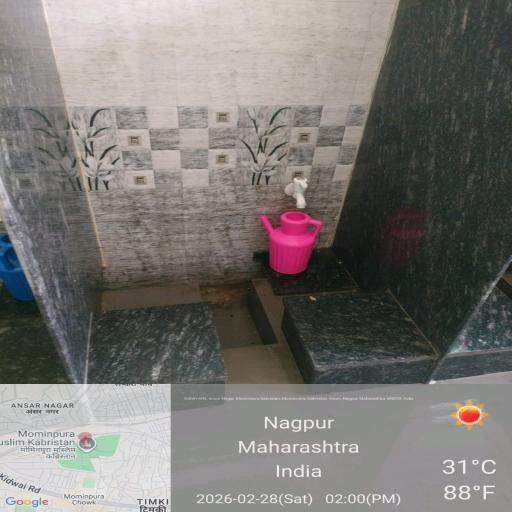clean_floor: (13, 0, 428, 250), (47, 295, 465, 504)
